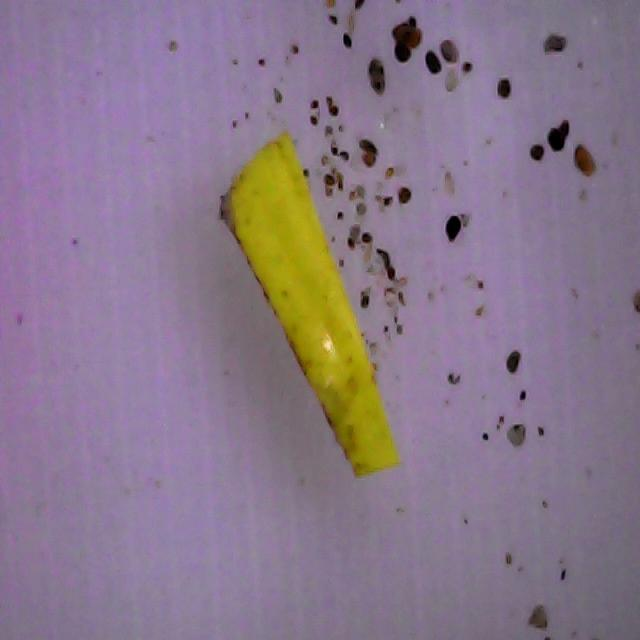fragments: (204, 130, 408, 493)
